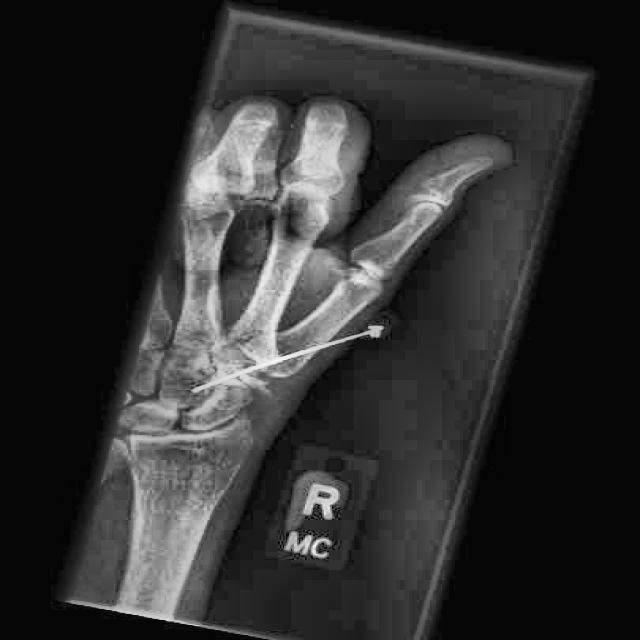fingers positive: (222, 329, 283, 355)
